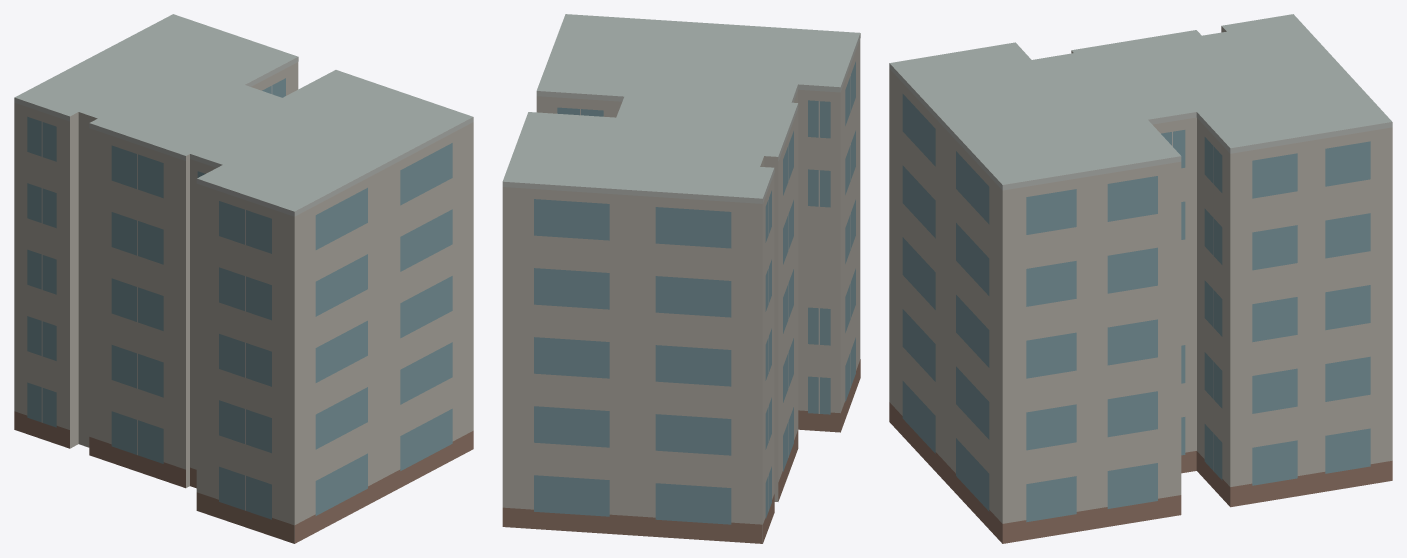
The model's file is survey-upis-32856918.glb.
3 views of the same model, side by side, from view 1: azimuth 30°, elevation 25°; view 2: azimuth 150°, elevation 25°; view 3: azimuth 270°, elevation 25° (orthographic). The views are drawn at different scales.
Parts seen in each view (by area): view 1: survey-upis-32856918.tmp; view 2: survey-upis-32856918.tmp; view 3: survey-upis-32856918.tmp.
Part boxes in pixels (x1=…): survey-upis-32856918.tmp: x1=14, y1=14, x2=473, y2=543; survey-upis-32856918.tmp: x1=502, y1=14, x2=860, y2=543; survey-upis-32856918.tmp: x1=889, y1=14, x2=1392, y2=543.
Bounding box in the file's own units: 16.29 × 15.93 × 20.25.
